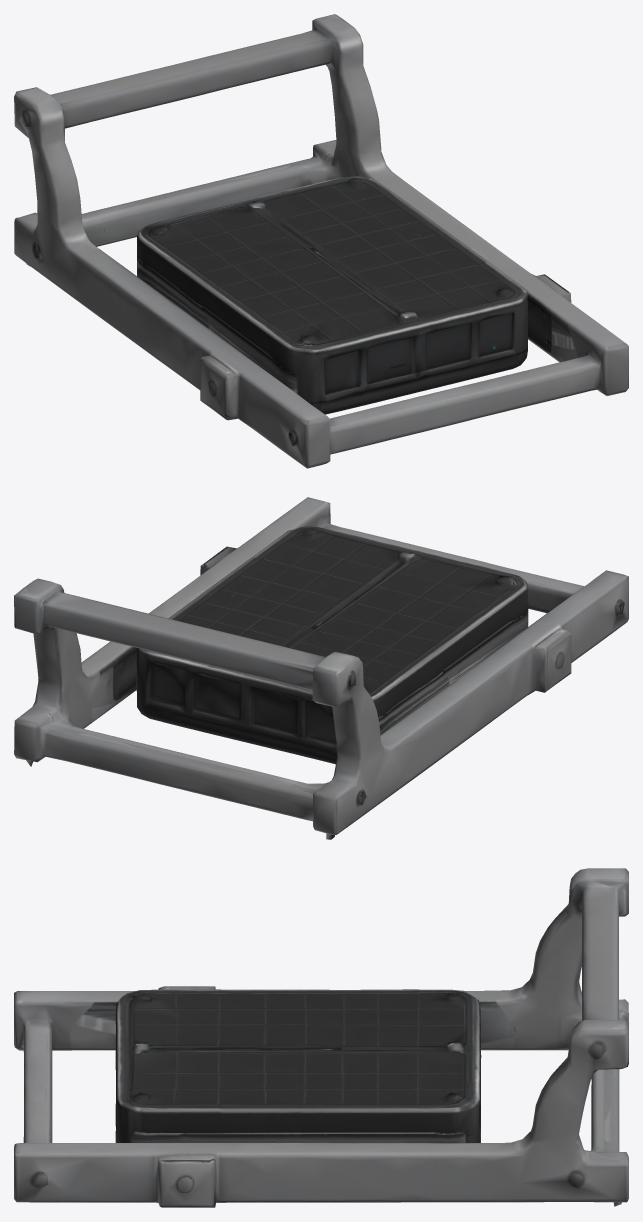
File: Metal_Frame_with_Blac_0417021142_texture.glb
The picture shows the model from 3 angles, top to bottom: view 1: azimuth 30°, elevation 25°; view 2: azimuth 150°, elevation 25°; view 3: azimuth 270°, elevation 25°; orthographic projection. The views are drawn at different scales.
Parts seen in each view (by area): view 1: Mesh1; view 2: Mesh1; view 3: Mesh1.
Boxes of the visible parts, left/top/right/bottom form: Mesh1: left=14, top=14, right=628, bottom=468; Mesh1: left=14, top=497, right=628, bottom=839; Mesh1: left=14, top=868, right=628, bottom=1207.
Size of the model in its own units: 1.37 by 0.6501 by 2.
Materials: 1 (1 with a texture image).
